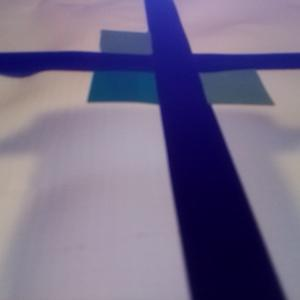bottom_left: (88, 56, 198, 104)
bottom_right: (161, 56, 274, 104)
top_left: (99, 28, 183, 68)
